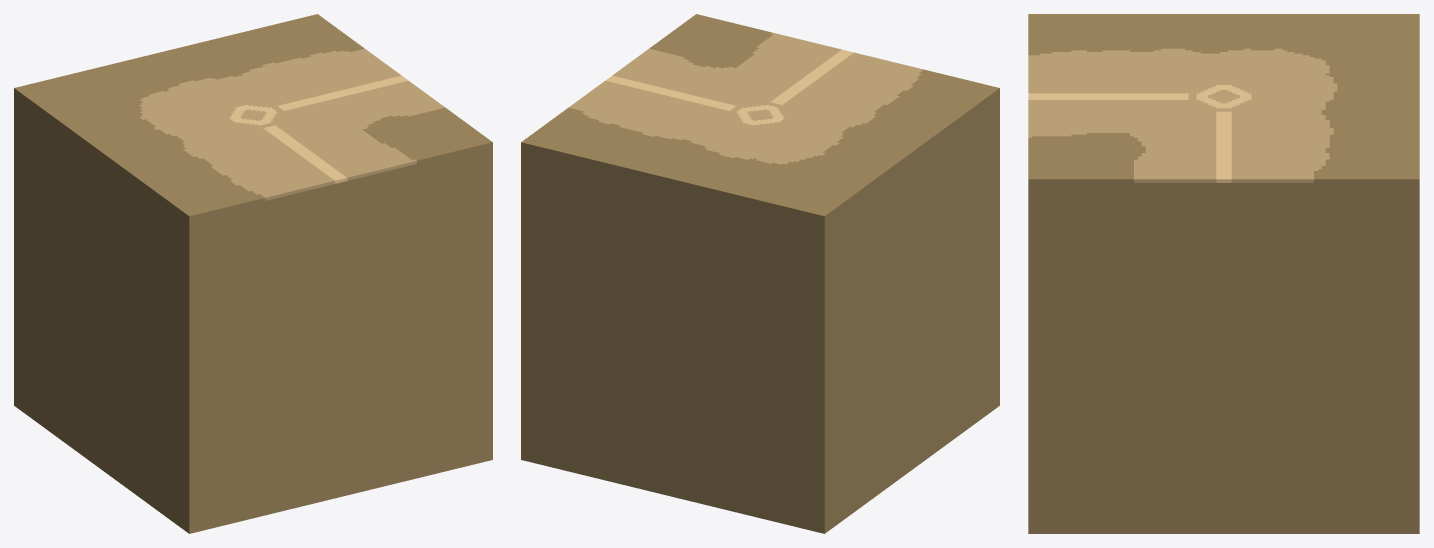
The model's file is floor2b.obj.
The picture shows the model from 3 angles, left to right: view 1: azimuth 30°, elevation 25°; view 2: azimuth 150°, elevation 25°; view 3: azimuth 270°, elevation 25°; orthographic projection. The views are drawn at different scales.
Visible parts, largest first — view 1: floor2b; view 2: floor2b; view 3: floor2b.
Boxes of the visible parts, <box> form: floor2b: <box>14,14,492,533</box>; floor2b: <box>521,14,999,533</box>; floor2b: <box>1028,14,1419,533</box>.
Size of the model in its own units: 100 by 100 by 100.
Materials: 1 (1 with a texture image).
